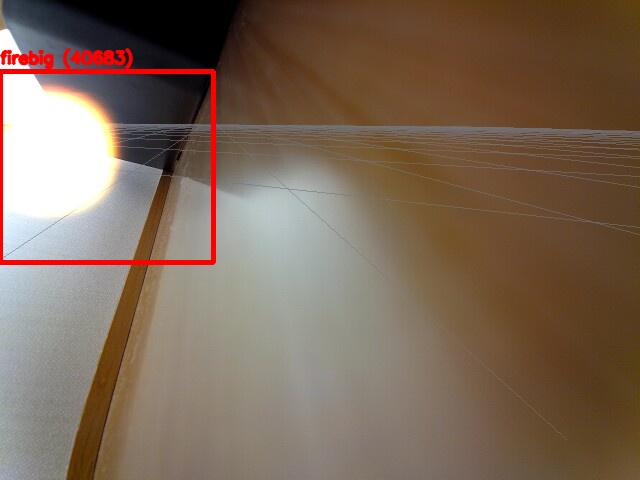firebig: (0, 71, 213, 262)
